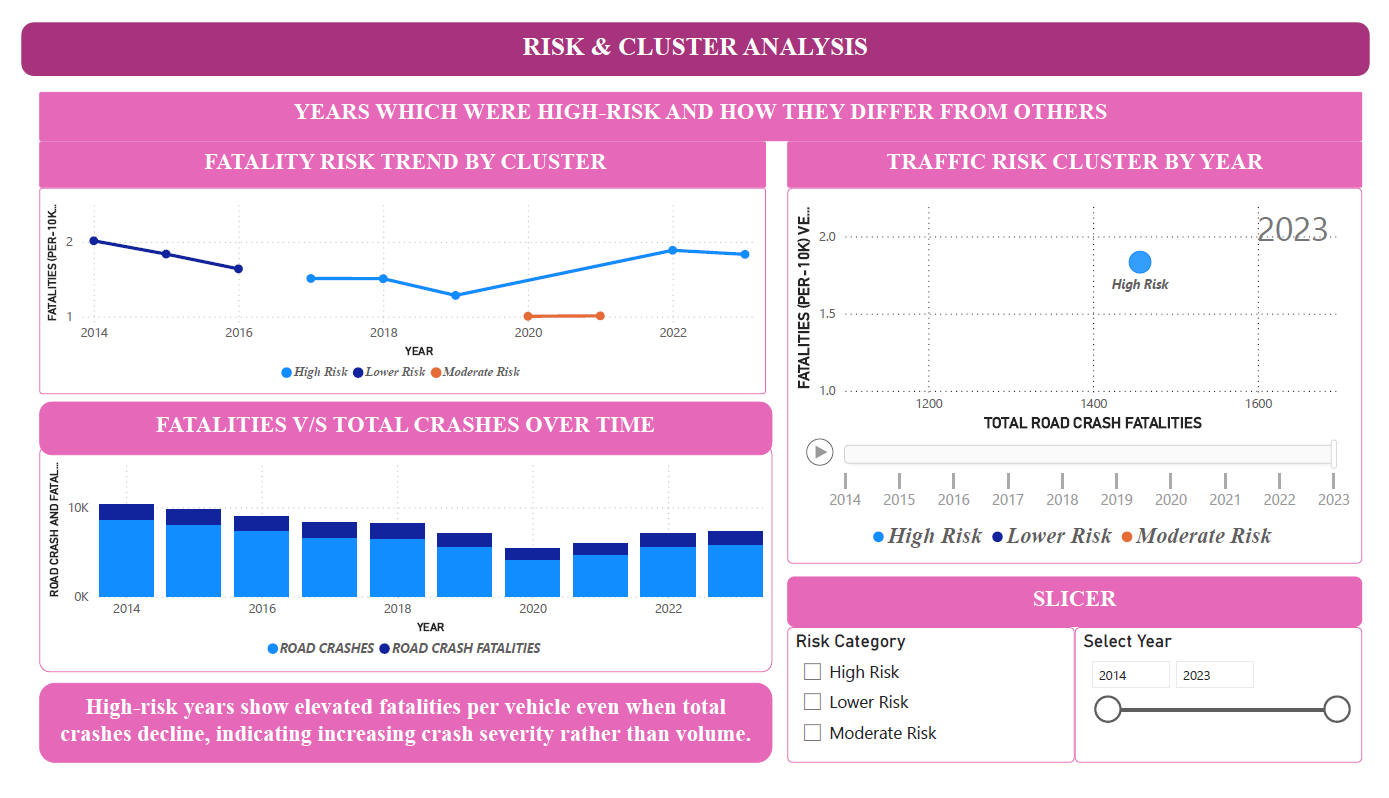

The page's visual inventory and layout, read from the dashboard file:
{"tool":"powerbi","page":{"name":"Page 2","canvas":[1280,720],"ordinal":1},"visuals":[{"type":"lineChart","fields":{"Category":["master_yearly_with_clusters.year"],"Y":["Sum(master_yearly_with_clusters.Fatalities per  10k vehicles)"],"Series":["master_yearly_with_clusters.risk_category"]},"box":[17.1,157.1,690,195.7],"z":0},{"type":"slicer","title":"Select Year","fields":{"Values":["master_yearly_with_clusters.year"]},"box":[1000,574.3,272.9,128.6],"z":1000},{"type":"slicer","title":"Risk Category","fields":{"Values":["master_yearly_with_clusters.risk_category"]},"box":[727.1,574.3,272.9,128.6],"z":2000},{"type":"textbox","box":[17.1,627.1,695.7,75.7],"z":3000},{"type":"columnChart","fields":{"Category":["master_yearly_with_clusters.year"],"Y":["Sum(master_yearly_with_clusters.road_crashes)","Sum(master_yearly_with_clusters.road_crash_fatalities)"]},"box":[17.1,400,695.7,217.1],"z":4000},{"type":"scatterChart","fields":{"X":["Sum(master_yearly_with_clusters.road_crash_fatalities)"],"Y":["Sum(master_yearly_with_clusters.Fatalities per  10k vehicles)"],"Size":["Sum(master_yearly_with_clusters.road_crashes)"],"Series":["master_yearly_with_clusters.risk_category"],"Play":["master_yearly_with_clusters.year"]},"box":[727.1,157.1,545.7,357.1],"z":5000},{"type":"textbox","box":[17.1,112.9,690,44.3],"z":6000},{"type":"textbox","box":[17.1,360,695.7,51.4],"z":7000},{"type":"textbox","box":[727.1,112.9,545.7,44.3],"z":8000},{"type":"textbox","box":[727.1,525.7,545.7,48.6],"z":9000},{"type":"textbox","box":[0,0,1280,51.4],"z":10000},{"type":"textbox","box":[17.1,65.7,1255.7,47.1],"z":11000}]}

Visuals, with their boxes in screenshot pixels (x1, y1, x2, y2), scaled from the page's 1280x720 canvas onto the 1389x798 screenshot:
lineChart - master_yearly_with_clusters.year x Sum(master_yearly_with_clusters.Fatalities per  10k vehicles): [left=19, top=174, right=767, bottom=391]
"Select Year" slicer: [left=1085, top=637, right=1381, bottom=779]
"Risk Category" slicer: [left=789, top=637, right=1085, bottom=779]
textbox: [left=19, top=695, right=773, bottom=779]
columnChart - master_yearly_with_clusters.year x Sum(master_yearly_with_clusters.road_crashes): [left=19, top=443, right=773, bottom=684]
scatterChart - Sum(master_yearly_with_clusters.road_crash_fatalities) x Sum(master_yearly_with_clusters.Fatalities per  10k vehicles): [left=789, top=174, right=1381, bottom=570]
textbox: [left=19, top=125, right=767, bottom=174]
textbox: [left=19, top=399, right=773, bottom=456]
textbox: [left=789, top=125, right=1381, bottom=174]
textbox: [left=789, top=583, right=1381, bottom=637]
textbox: [left=0, top=0, right=1388, bottom=57]
textbox: [left=19, top=73, right=1381, bottom=125]
